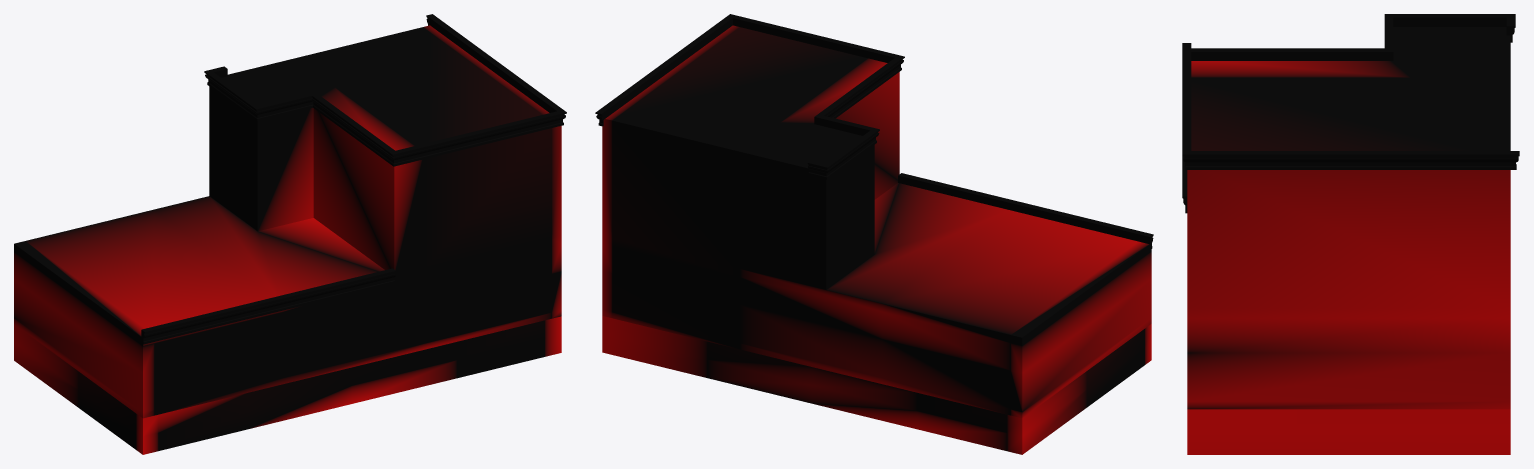
The model's file is House11.fbx.
The picture shows the model from 3 angles, left to right: view 1: azimuth 30°, elevation 25°; view 2: azimuth 150°, elevation 25°; view 3: azimuth 270°, elevation 25°; orthographic projection. The views are drawn at different scales.
Parts seen in each view (by area): view 1: House11; view 2: House11; view 3: House11.
Boxes of the visible parts, x1,y1,x2,y2 form: House11: (14,14,566,454); House11: (595,14,1153,454); House11: (1182,14,1519,454).
Bounding box in the file's own units: 1512 × 825 × 834.
